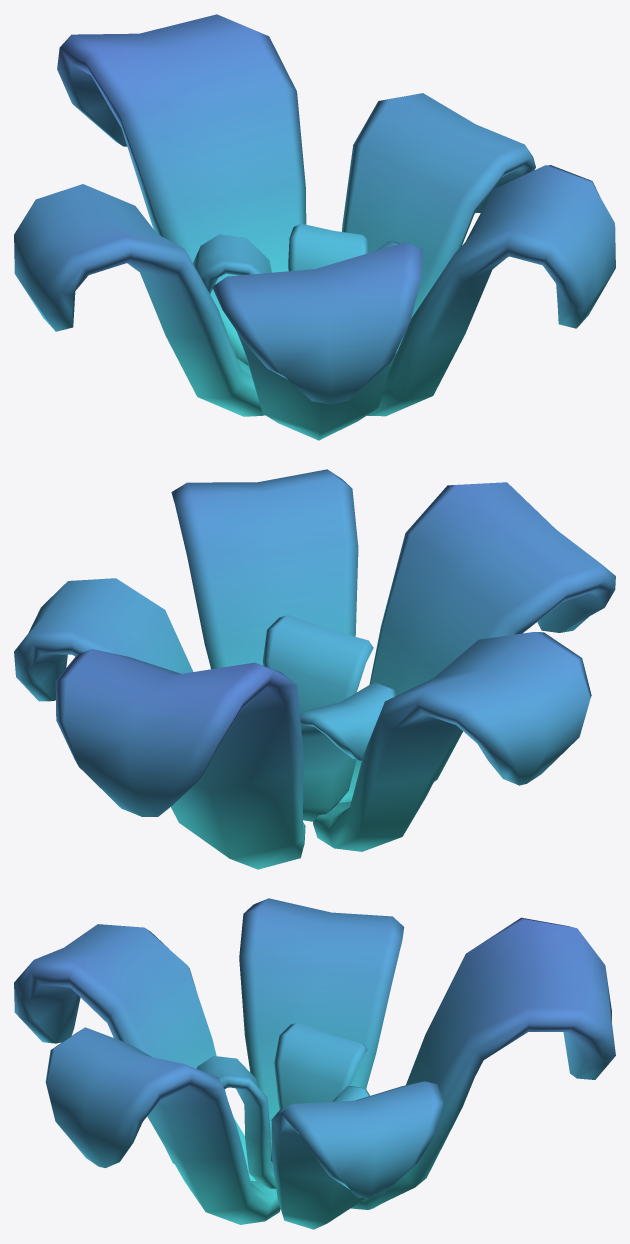
File: pequeno_coral02.fbx
3 renders of one model, top to bottom at view 1: azimuth 30°, elevation 25°; view 2: azimuth 150°, elevation 25°; view 3: azimuth 270°, elevation 25°, orthographic. The views are drawn at different scales.
Parts seen in each view (by area): view 1: Plant.004; view 2: Plant.004; view 3: Plant.004.
Part boxes in pixels (x1,y1,x2,y2): Plant.004: (14, 14, 615, 440); Plant.004: (14, 469, 615, 869); Plant.004: (14, 898, 615, 1229).
Bounding box in the file's own units: 797 × 423 × 910.
Materials: 1 (1 with a texture image).
